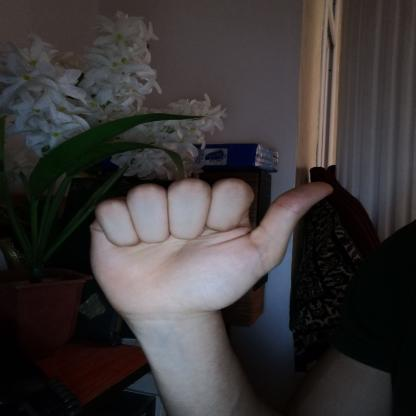DAD: (75, 166, 348, 322)
